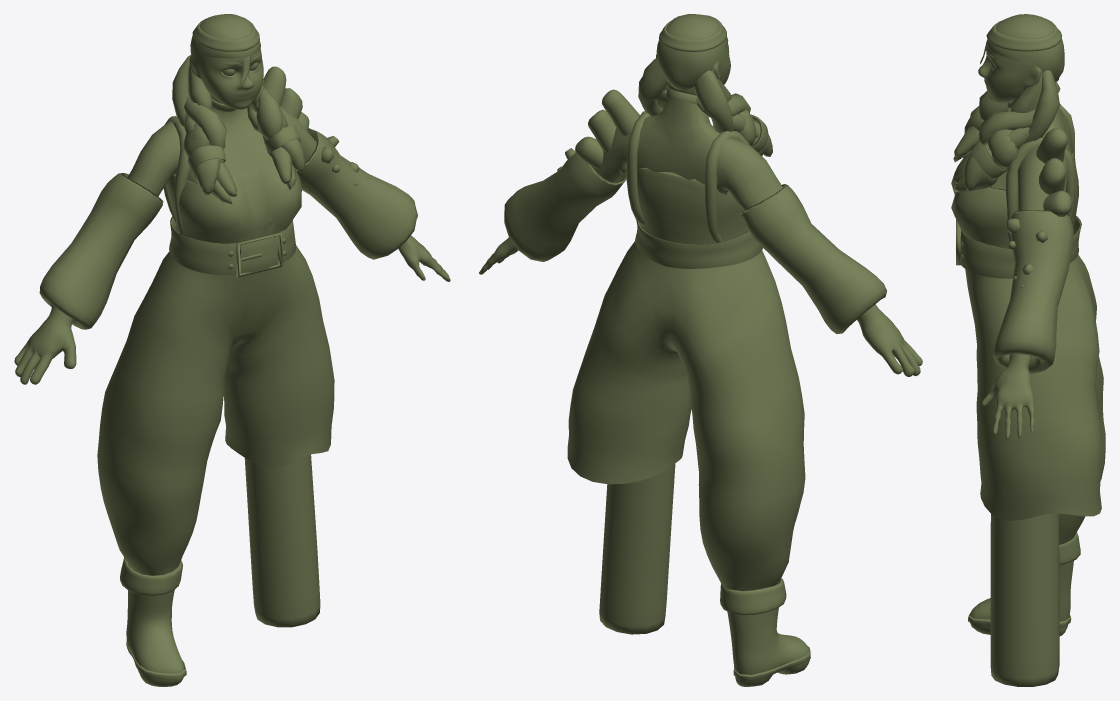
The model's file is EnemyRange2.fbx.
The picture shows the model from 3 angles, left to right: view 1: azimuth 30°, elevation 25°; view 2: azimuth 150°, elevation 25°; view 3: azimuth 270°, elevation 25°; orthographic projection. The views are drawn at different scales.
Visible parts, largest first — view 1: EnemyRange2:EnemyRange2:EnemyRange_2; view 2: EnemyRange2:EnemyRange2:EnemyRange_2; view 3: EnemyRange2:EnemyRange2:EnemyRange_2.
Boxes of the visible parts, x1=… form: EnemyRange2:EnemyRange2:EnemyRange_2: x1=14, y1=14, x2=450, y2=686; EnemyRange2:EnemyRange2:EnemyRange_2: x1=479, y1=14, x2=922, y2=686; EnemyRange2:EnemyRange2:EnemyRange_2: x1=951, y1=14, x2=1105, y2=686.
Size of the model in its own units: 13.41 by 19 by 4.08.
